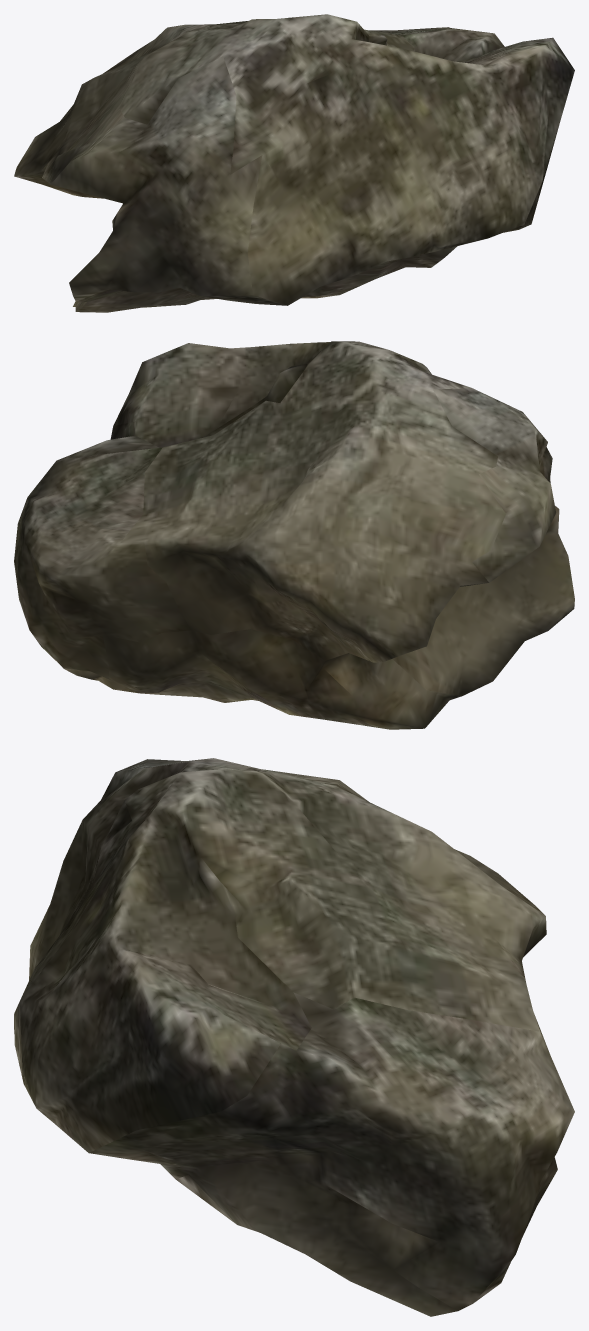
File: prock_d.glb
The picture shows the model from 3 angles, top to bottom: view 1: azimuth 30°, elevation 25°; view 2: azimuth 150°, elevation 25°; view 3: azimuth 270°, elevation 25°; orthographic projection. The views are drawn at different scales.
Parts seen in each view (by area): view 1: prock_d; view 2: prock_d; view 3: prock_d.
Boxes of the visible parts, left/top/right/bottom form: prock_d: left=14, top=14, right=574, bottom=312; prock_d: left=14, top=341, right=574, bottom=729; prock_d: left=14, top=758, right=574, bottom=1316.
Bounding box in the file's own units: 2.2 × 1.47 × 1.72.
1 material, 1 textured.
